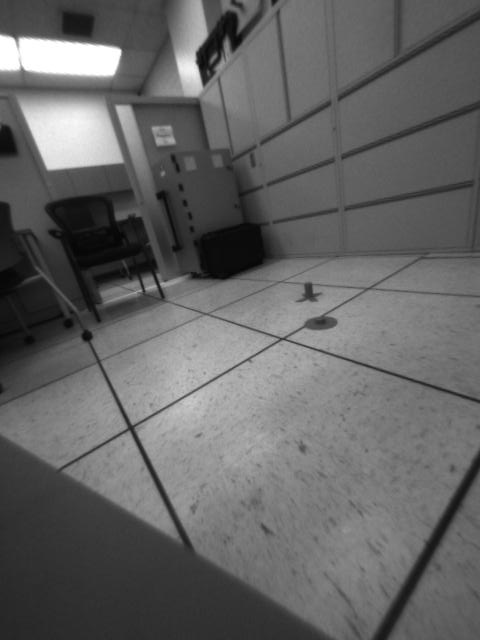X: (292, 280, 323, 307)
